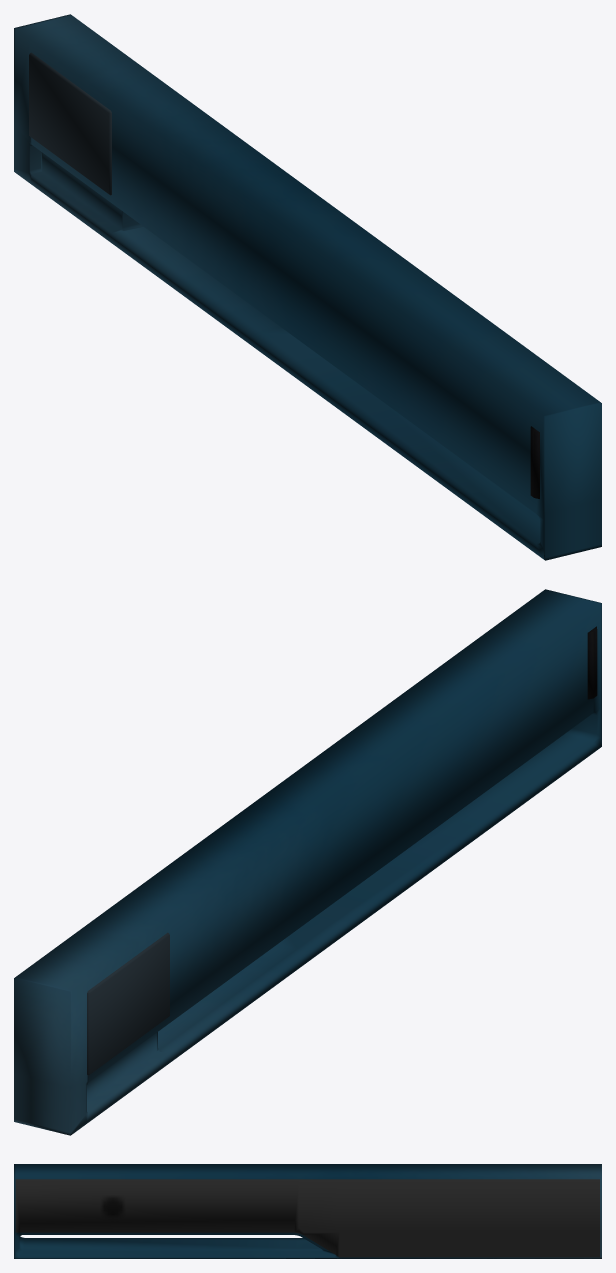
Rendered from realsense_r200.dae.
3 views of the same model, one above another, from view 1: azimuth 30°, elevation 25°; view 2: azimuth 150°, elevation 25°; view 3: azimuth 270°, elevation 25° (orthographic). The views are drawn at different scales.
Visible parts, largest first — view 1: realsense_r200; view 2: realsense_r200; view 3: realsense_r200.
Part boxes in pixels (box(x1,y1,x2,y2)): realsense_r200: box(14, 14, 601, 560); realsense_r200: box(14, 589, 601, 1135); realsense_r200: box(14, 1164, 601, 1258).
Bounding box in the file's own units: 0.00845 × 0.13 × 0.0194.
Materials: 1 (1 with a texture image).
